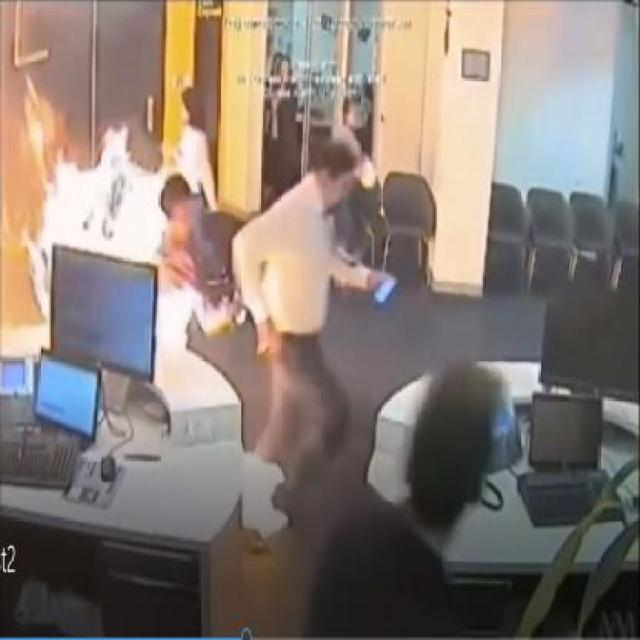Fire: (56, 146, 164, 263), (157, 288, 191, 352), (243, 452, 283, 506), (27, 238, 50, 316), (192, 296, 228, 333), (241, 510, 290, 533), (41, 177, 57, 240), (104, 120, 128, 148), (238, 310, 245, 328)
